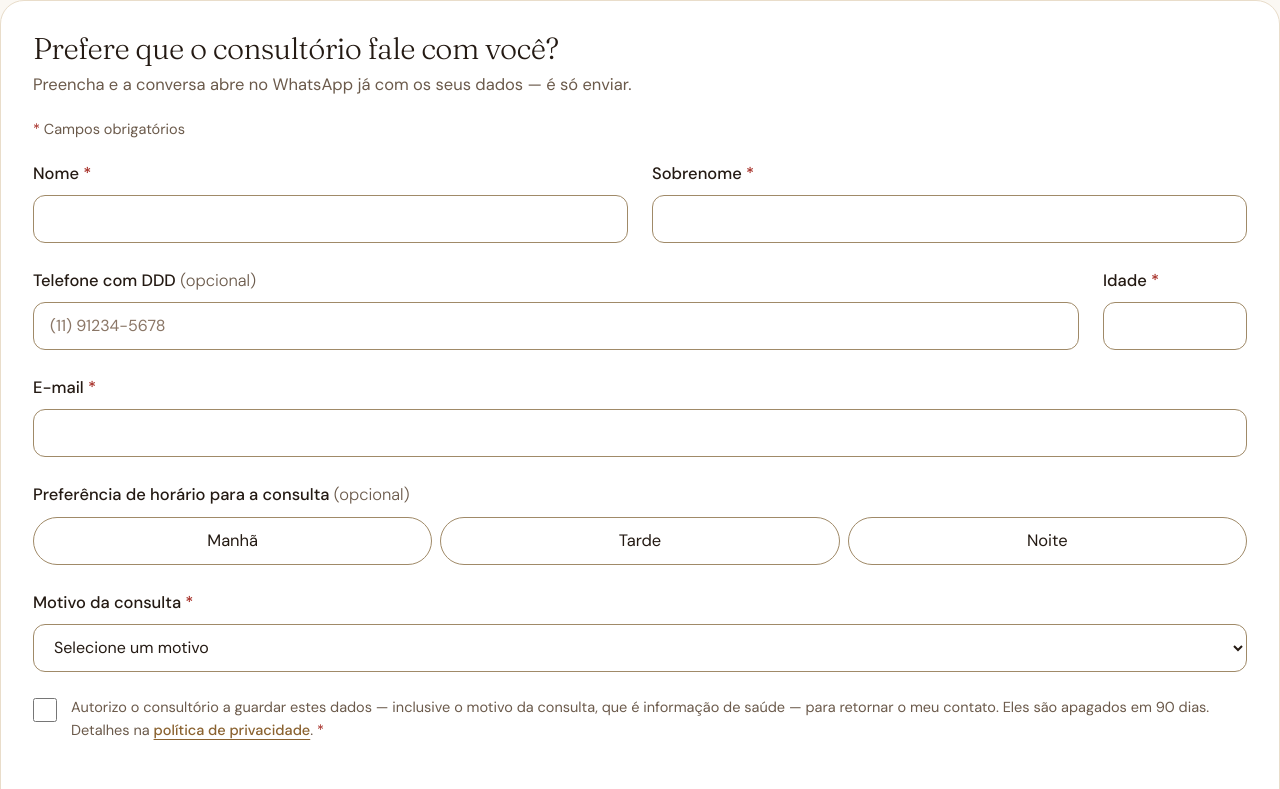
Test: <FormularioContato> › idade só aceita dígitos; telefone ganha máscara
Step 1. Type "3a4e5" into the field labelled "Idade *" → (1175, 326), box [1103,302,1247,350]
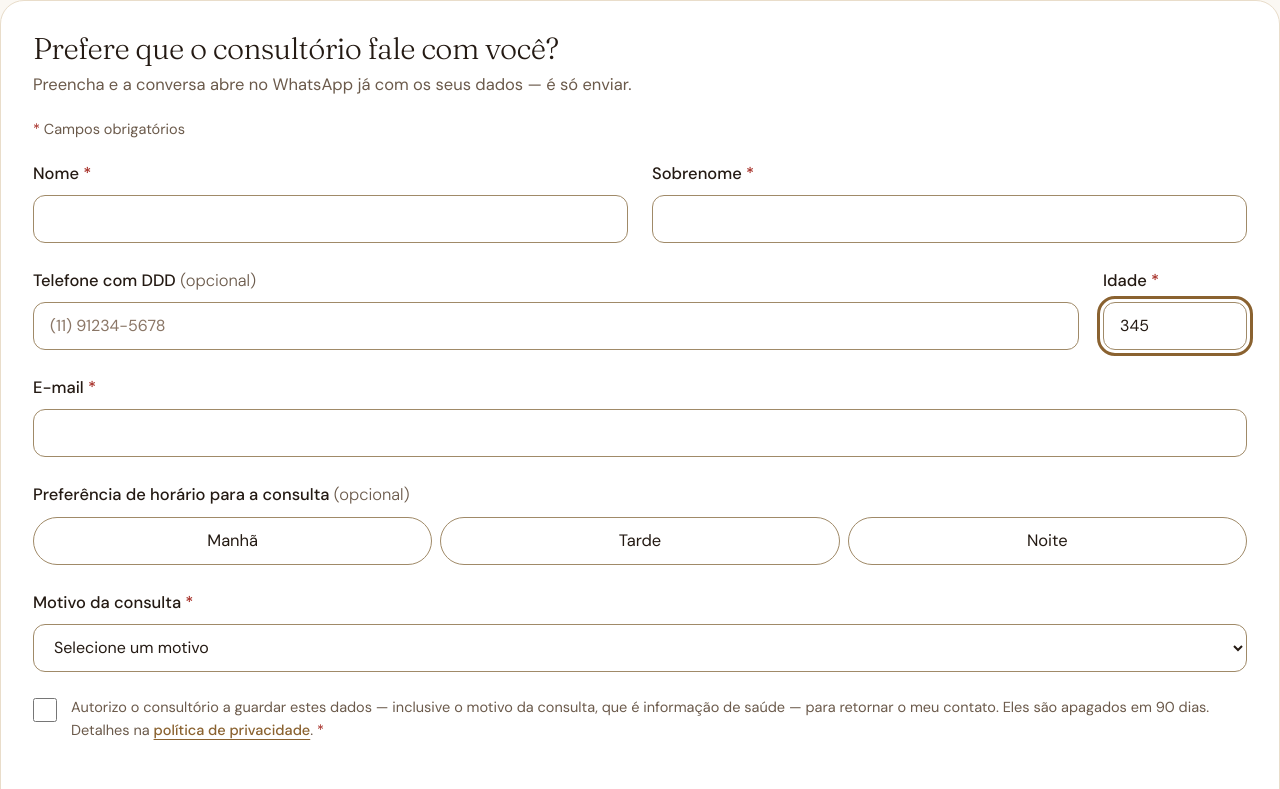
Result: the field labelled "Idade *" holds "345" at [1103,302,1247,350]
Step 2. Type "11912345678" into the field labelled "Telefone com DDD (opcional)" → (556, 326), box [33,302,1079,350]
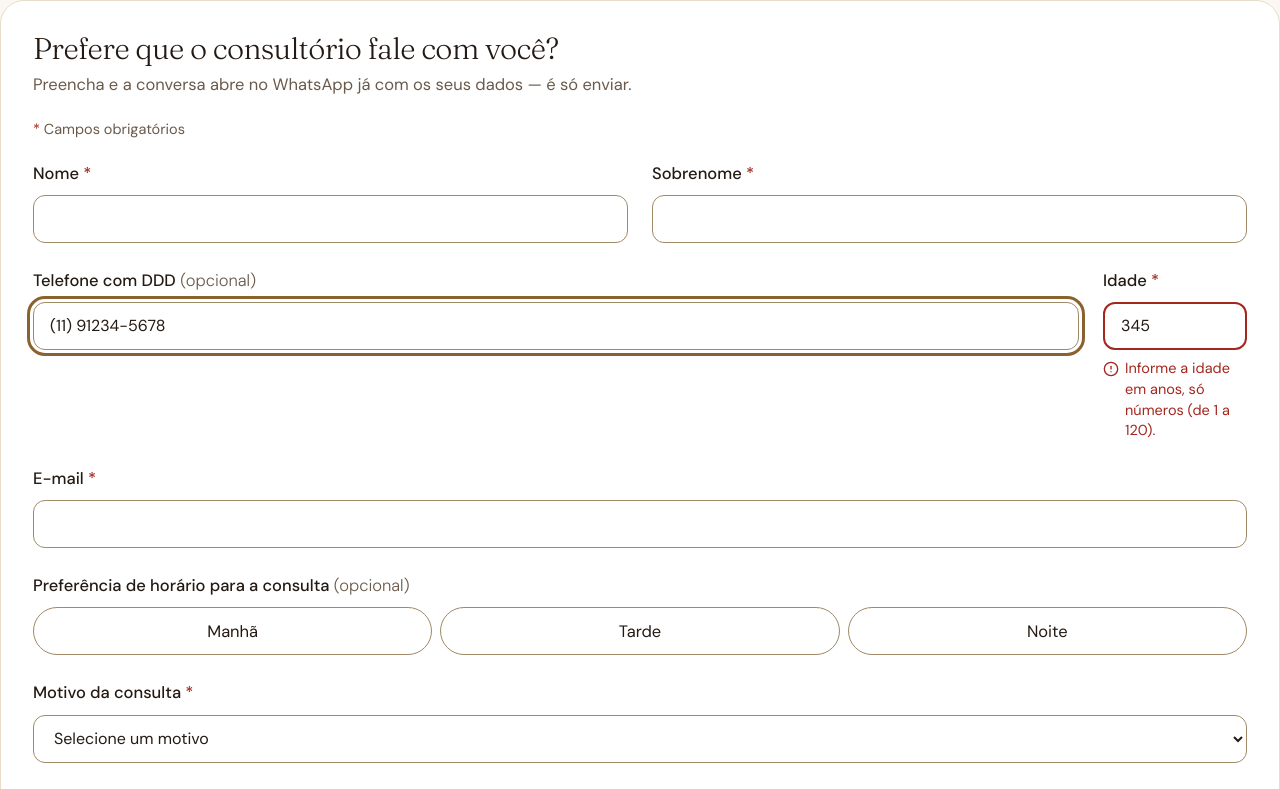
Result: the field labelled "Telefone com DDD (opcional)" holds "(11) 91234-5678" at [33,302,1079,350]
